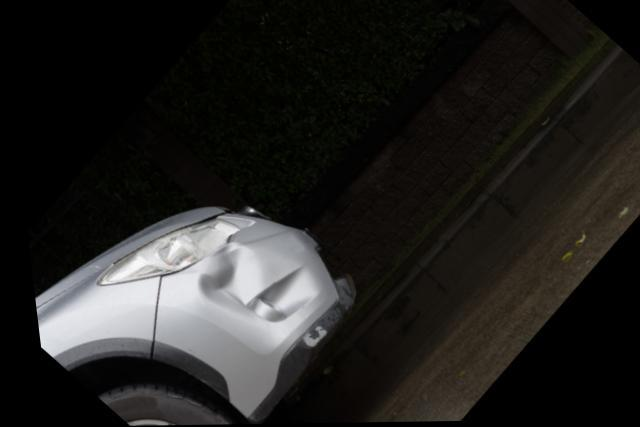dent: (191, 241, 254, 311)
scratch: (291, 323, 320, 347)
